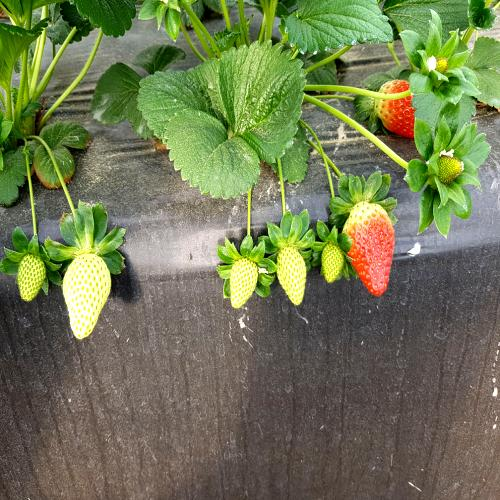unripe: (62, 248, 112, 337), (274, 243, 310, 309), (229, 249, 258, 307)
